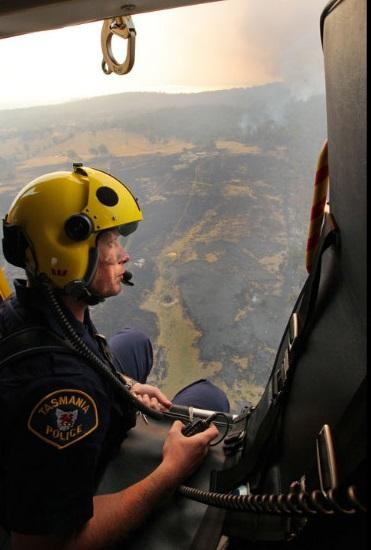smoke: (209, 11, 307, 87)
